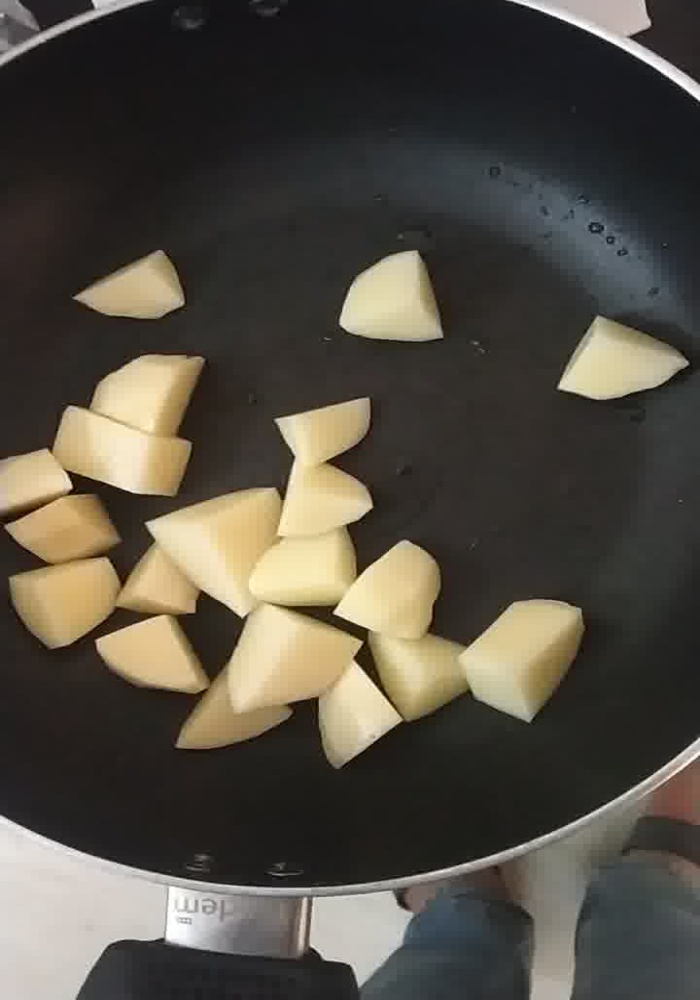potato: (218, 610, 458, 767), (129, 501, 355, 607), (8, 496, 120, 650), (460, 600, 583, 724), (52, 403, 193, 497), (558, 313, 689, 400), (332, 539, 442, 638), (339, 248, 447, 341), (91, 352, 205, 437), (97, 610, 211, 694), (273, 456, 374, 538), (72, 248, 185, 320), (274, 396, 370, 463), (1, 442, 61, 514)
